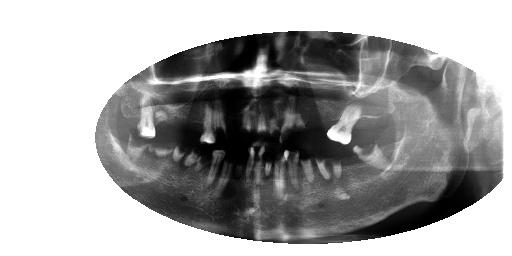i1decay: (354, 141, 386, 173)
i2decay: (329, 157, 342, 184)
u10loss: (222, 99, 241, 134), (220, 159, 231, 200)
u11: (200, 101, 225, 144)
u11decay: (207, 149, 227, 185)
u12: (187, 100, 200, 132)
u12chipped: (194, 155, 205, 176)
u13decay: (184, 149, 199, 169)
u13loss: (174, 101, 186, 133)
u14decay: (173, 143, 183, 163)
u14loss: (156, 103, 174, 134)
u15decay: (152, 142, 172, 162)
u15healthy: (136, 101, 156, 139)
u16decay: (127, 135, 149, 165), (121, 98, 139, 127)
u1loss: (377, 107, 393, 134)
u2loss: (360, 104, 376, 136)
u3: (325, 103, 360, 142)
u3decay: (315, 155, 328, 184)
u4decay: (299, 156, 314, 187)
u4loss: (321, 99, 334, 127)
u5decay: (285, 148, 300, 193)
u5loss: (303, 98, 318, 128)
u6decay: (273, 152, 287, 201), (286, 97, 303, 134)
u7chipped: (268, 93, 282, 132)
u7decay: (265, 160, 272, 191)
u8decay: (245, 141, 264, 190), (256, 98, 267, 135)
u9: (233, 159, 245, 188)
u9decay: (241, 96, 255, 135)
